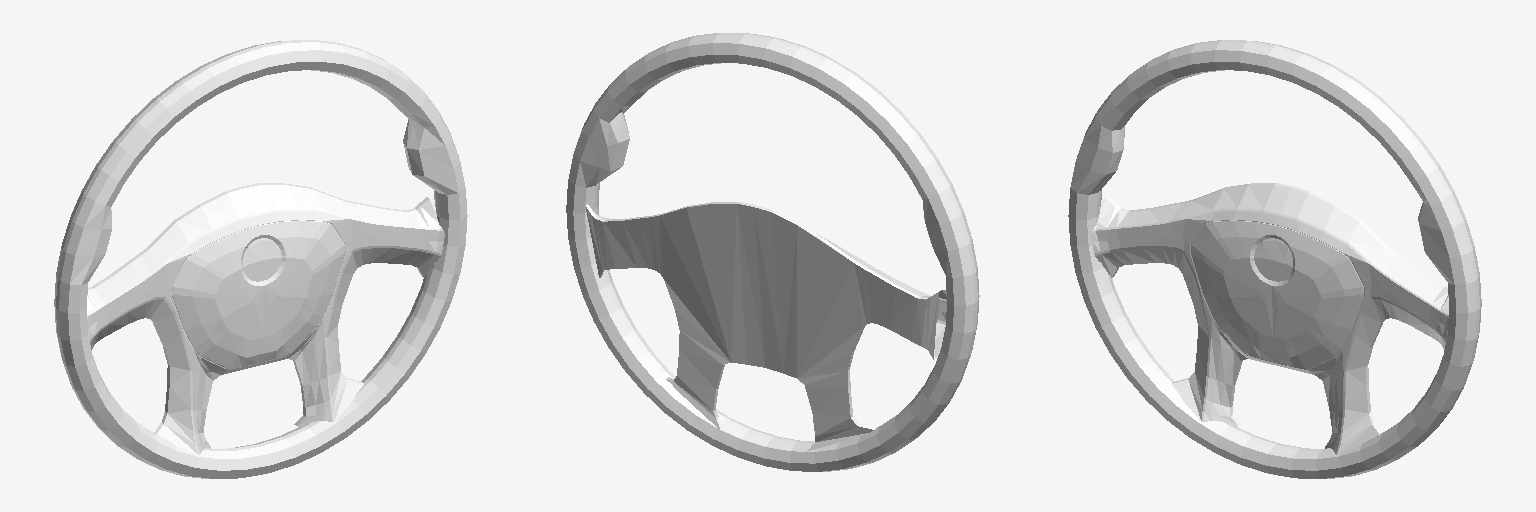
Rendered from steeeringwheel_mercedezbenz_bus.obj.
The picture shows the model from 3 angles: view 1: azimuth 30°, elevation 25°; view 2: azimuth 150°, elevation 25°; view 3: azimuth 330°, elevation 25°; orthographic projection.
Parts seen in each view (by area): view 1: Object_2; view 2: Object_2; view 3: Object_2.
Boxes of the visible parts, x1=… form: Object_2: x1=54, y1=40, x2=467, y2=478; Object_2: x1=566, y1=33, x2=979, y2=471; Object_2: x1=1068, y1=40, x2=1481, y2=478.
Bounding box in the file's own units: 0.4924 × 0.4924 × 0.0588.